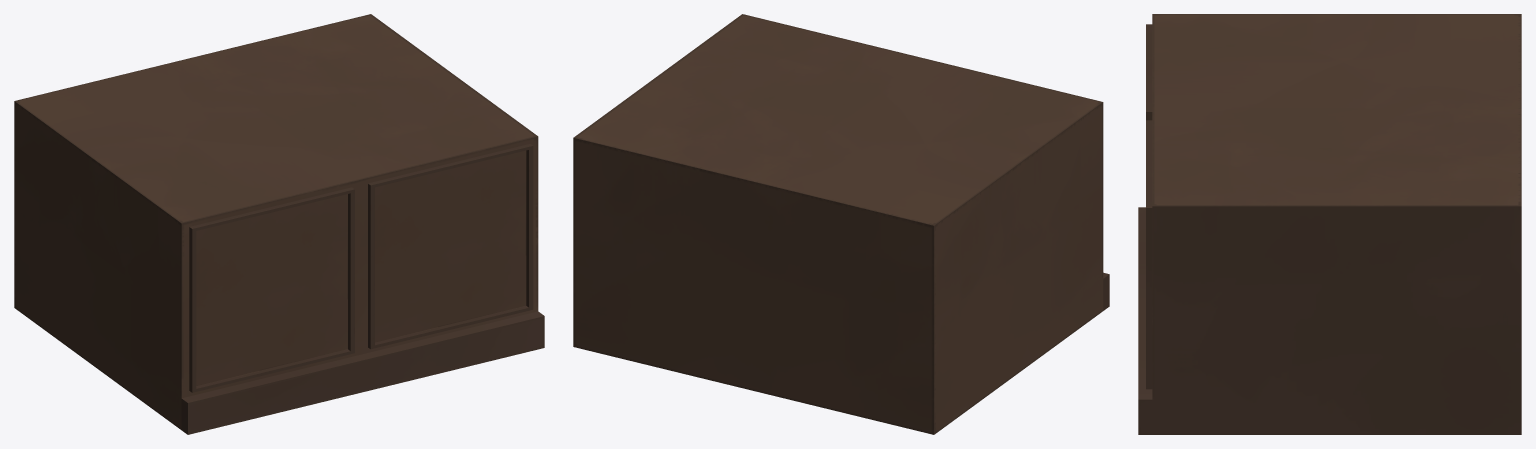
File: Counter3.fbx
The picture shows the model from 3 angles, left to right: view 1: azimuth 30°, elevation 25°; view 2: azimuth 150°, elevation 25°; view 3: azimuth 270°, elevation 25°; orthographic projection. The views are drawn at different scales.
Visible parts, largest first — view 1: Counter3; view 2: Counter3; view 3: Counter3.
Part boxes in pixels (x1,y1,x2,y2): Counter3: (14,14,544,434); Counter3: (573,14,1109,434); Counter3: (1138,14,1521,434).
Size of the model in its own units: 162 by 90 by 137.
